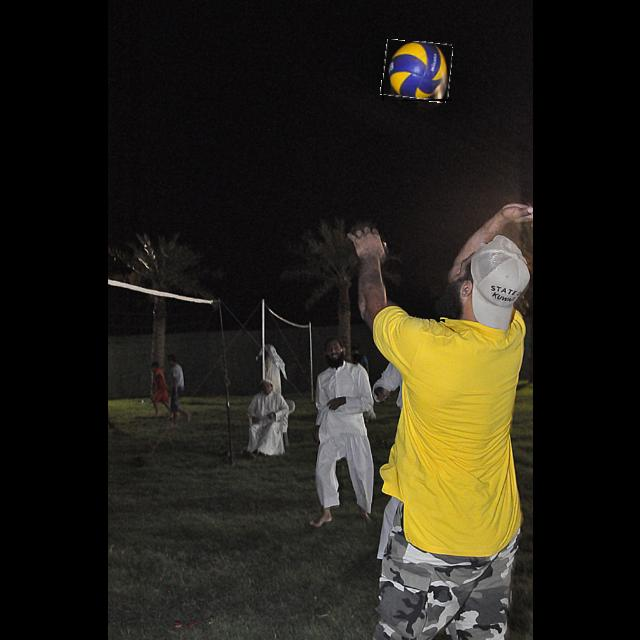Football: (382, 41, 452, 101)
